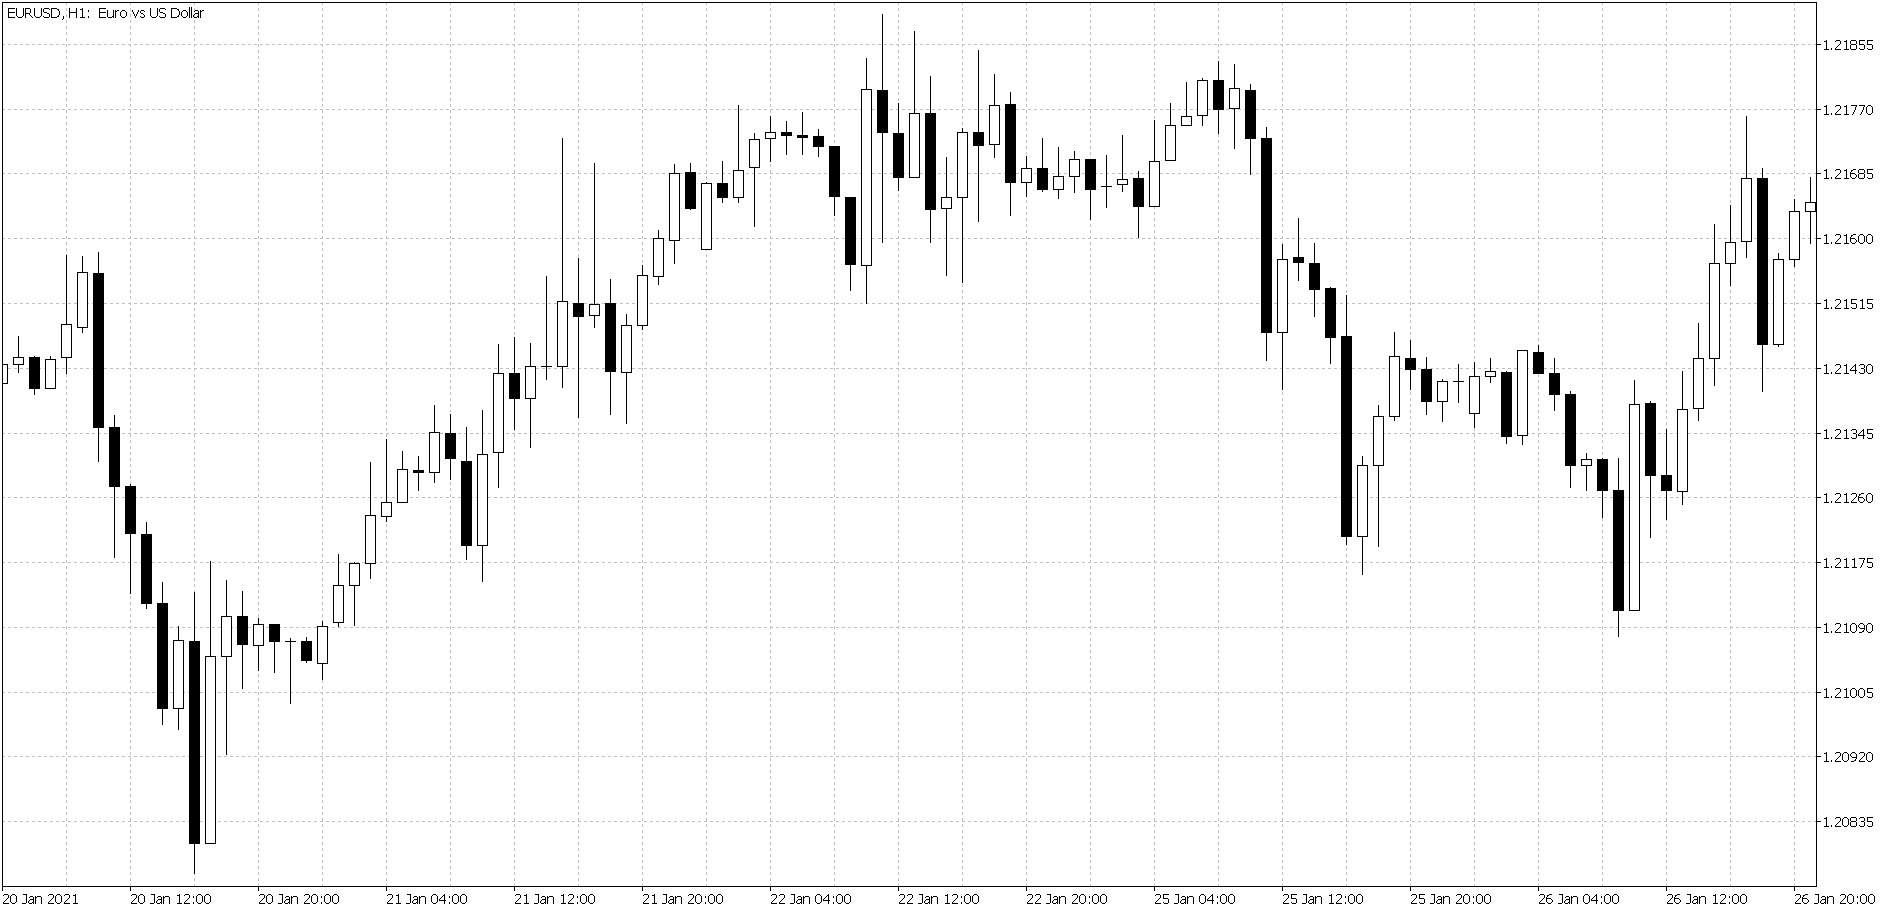3blackcrows: (106, 399, 155, 628)
3whitesoldiers: (618, 213, 664, 428)
bearishEngulfing: (172, 597, 203, 877), (987, 66, 1018, 219)
bullishEngulfing: (842, 57, 875, 315), (1658, 370, 1690, 527)
